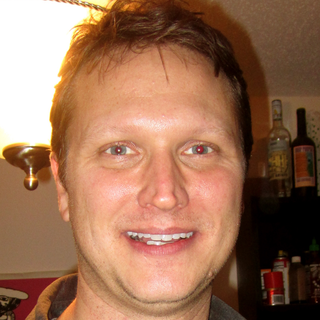eye: (177, 140, 222, 164), (98, 141, 144, 164)
